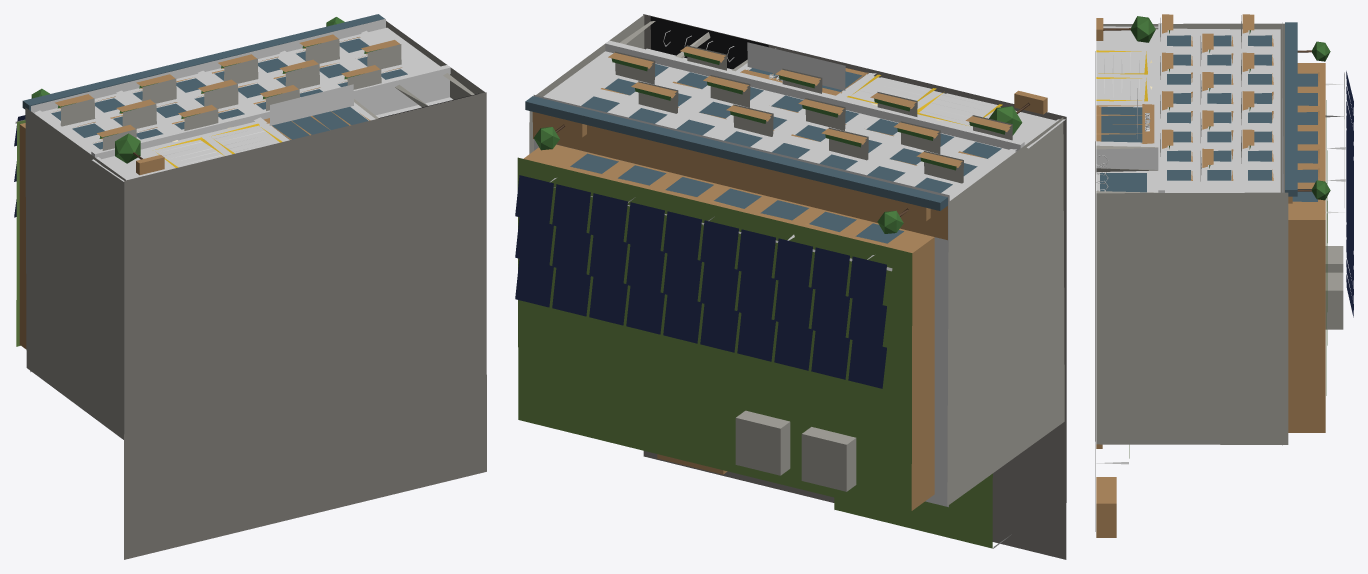
File: SolarpunkLocalHubLarge01_LOD1.fbx
The picture shows the model from 3 angles, left to right: view 1: azimuth 30°, elevation 25°; view 2: azimuth 150°, elevation 25°; view 3: azimuth 270°, elevation 25°; orthographic projection. The views are drawn at different scales.
Visible parts, largest first — view 1: SolarpunkLocalHubLarge01_LOD1; view 2: SolarpunkLocalHubLarge01_LOD1; view 3: SolarpunkLocalHubLarge01_LOD1.
Boxes of the visible parts, x1,y1,x2,y2 form: SolarpunkLocalHubLarge01_LOD1: (14, 14, 486, 559); SolarpunkLocalHubLarge01_LOD1: (515, 14, 1066, 559); SolarpunkLocalHubLarge01_LOD1: (1095, 14, 1353, 537).
Size of the model in its own units: 3200 by 3362 by 2050.
Materials: 1 (1 with a texture image).
